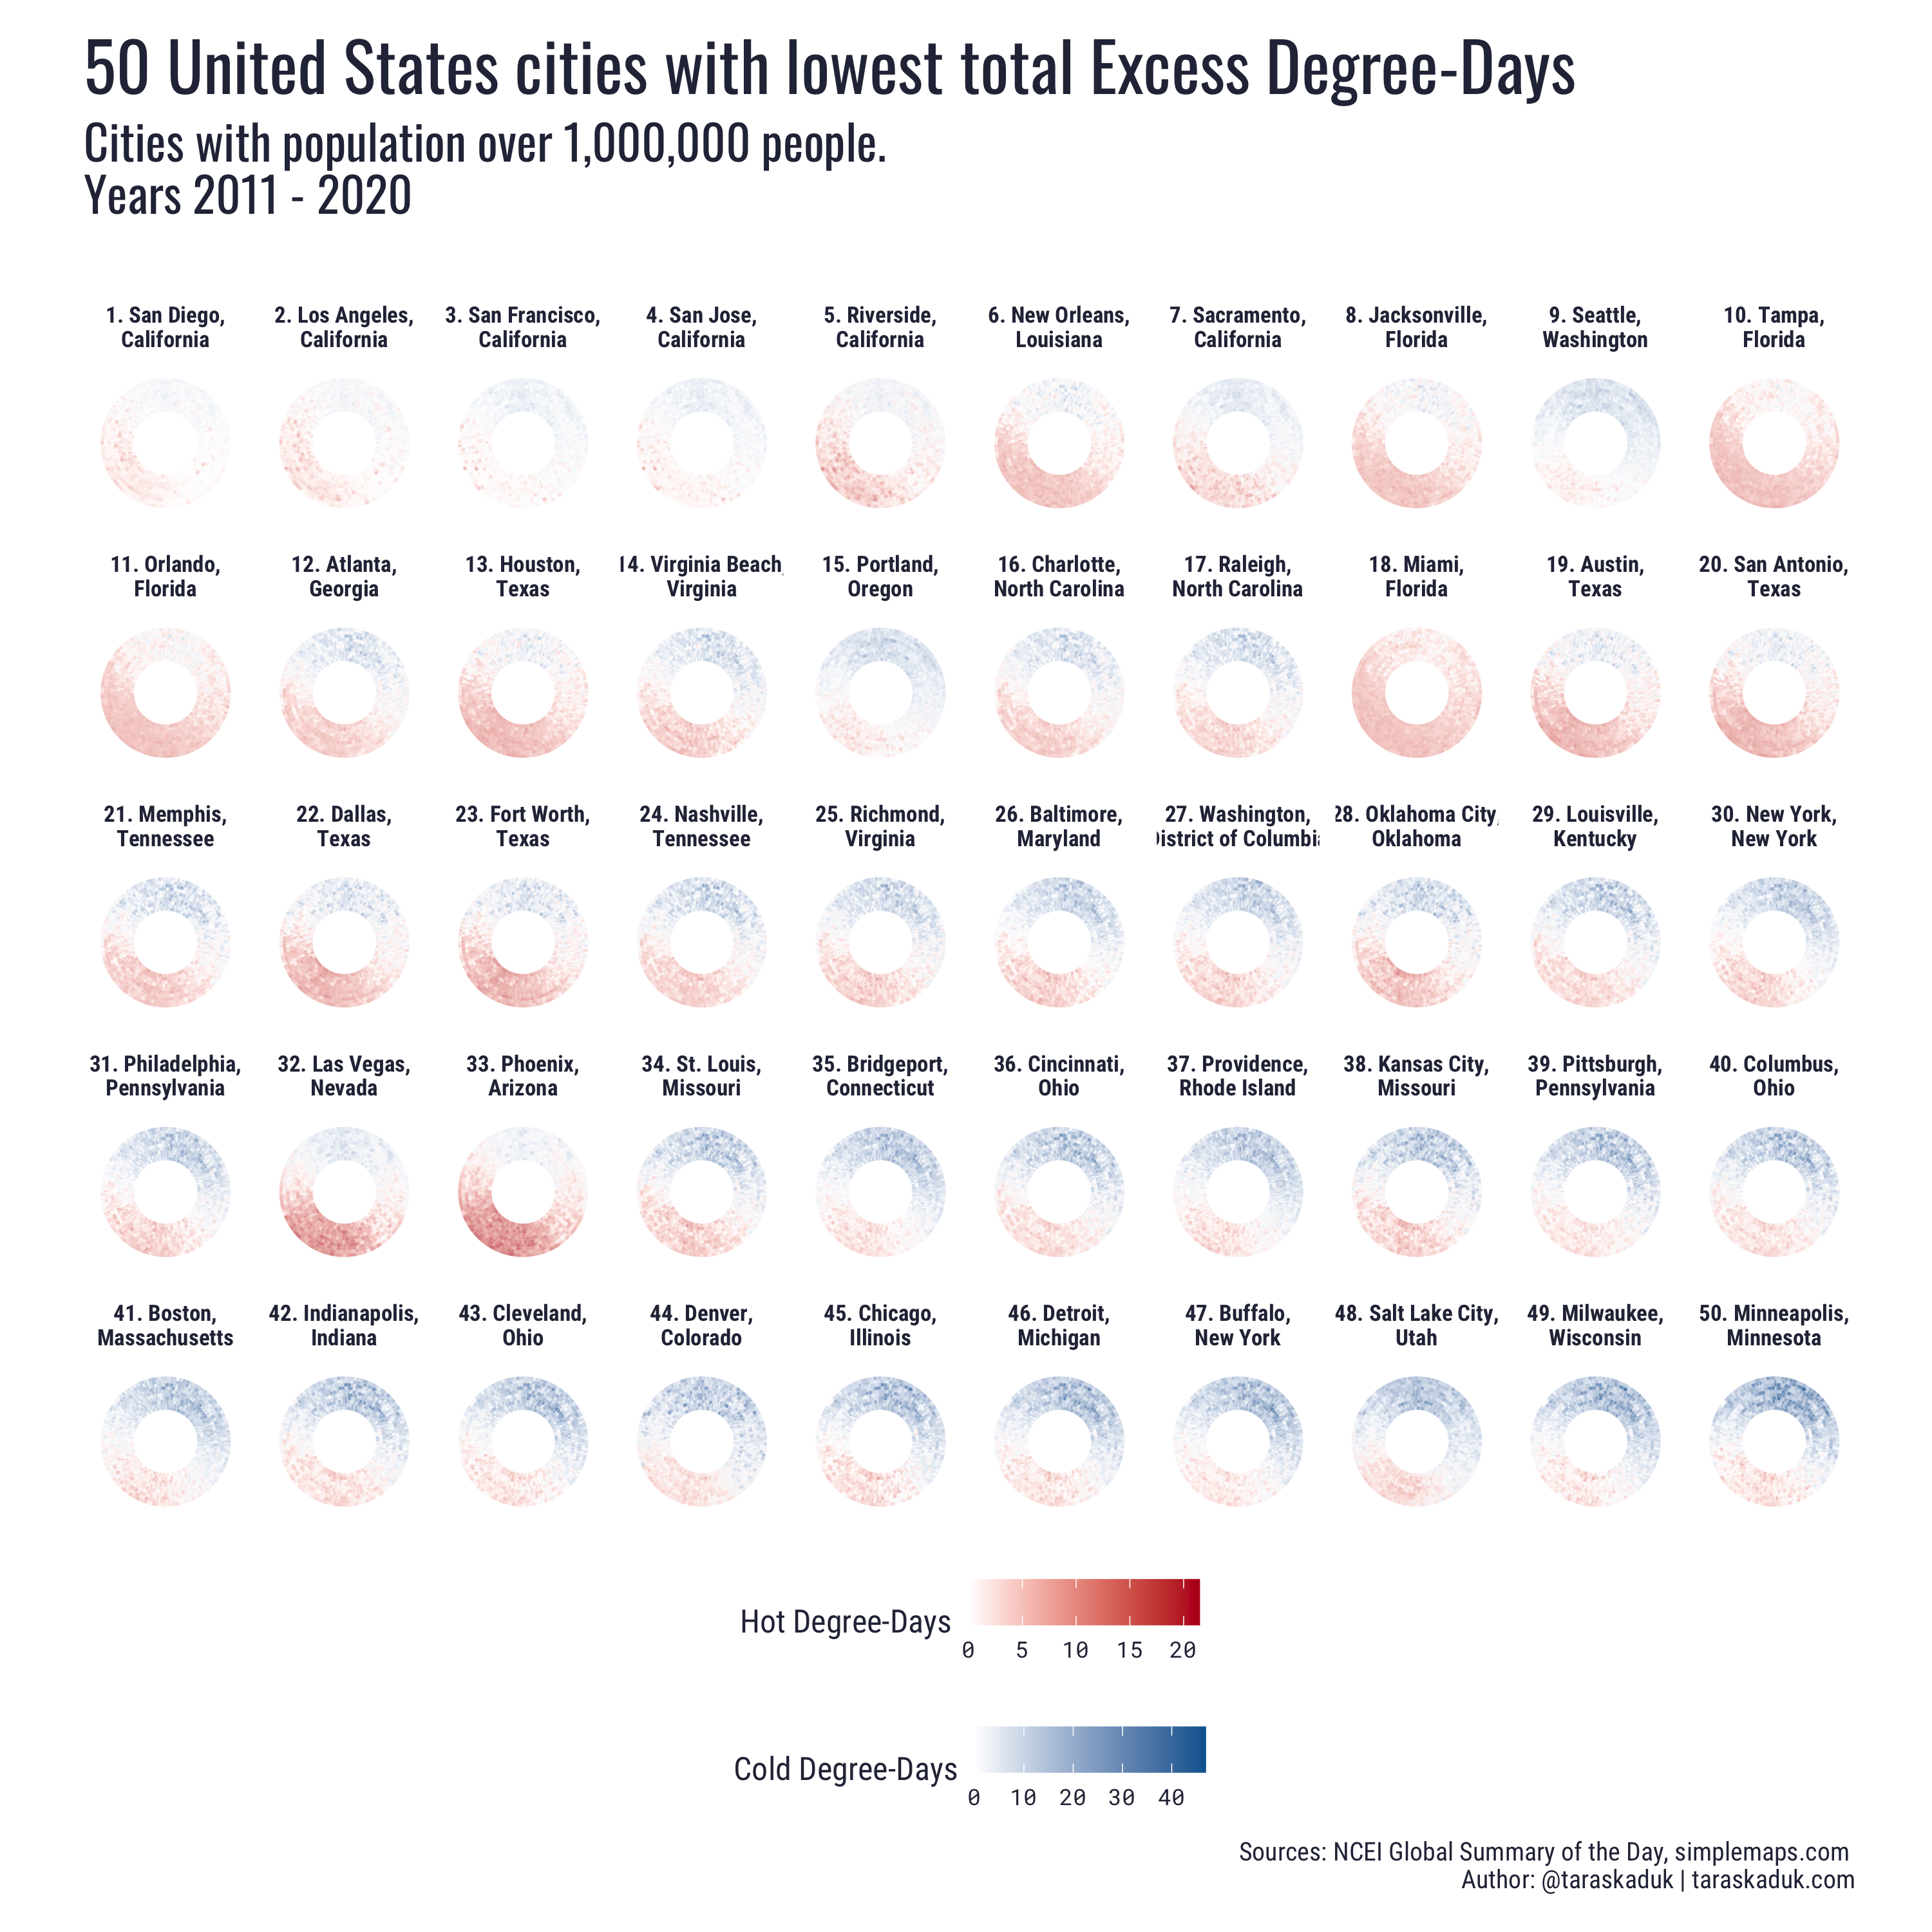

The dashboard page shown, as its layout file describes it:
{"tool":"tableau","page":{"name":"Radial Stack Bar Charts","canvas":[900,800],"ordinal":0},"visuals":[{"type":"worksheet","title":"radial stacked bar","mark":"Polygon","box":[0,0,796,800]},{"type":"legend","title":"radial stacked bar","param":"[federated.0d4brrl0id6ggj1ffol9q0xiccq4].[none:Calculation_4518799278402621453:n","box":[796,0,104,90]},{"type":"parameter","param":"[Parameters].[Parameter 4]","box":[796,90,104,52]},{"type":"parameter","param":"[Parameters].[Parameter 1]","box":[796,142,104,52]},{"type":"parameter","param":"[Parameters].[Parameter 2]","box":[796,194,104,52]},{"type":"parameter","param":"[Parameters].[Parameter 3]","box":[796,246,104,52]},{"type":"worksheet","title":"social","mark":"Shape","cols":["Platform"],"box":[840,770,60,30]}]}

Visuals, with their boxes on the page's 900x800 design canvas (x1, y1, x2, y2). These are canvas units, not pixel positions in the 1932x1932 screenshot, which may show the page scaled, cropped or inside an application window:
"radial stacked bar" worksheet (Polygon marks): 0/0/796/800
"radial stacked bar" legend: 796/0/900/90
parameter: 796/90/900/142
parameter: 796/142/900/194
parameter: 796/194/900/246
parameter: 796/246/900/298
"social" worksheet (Shape marks): 840/770/900/800
